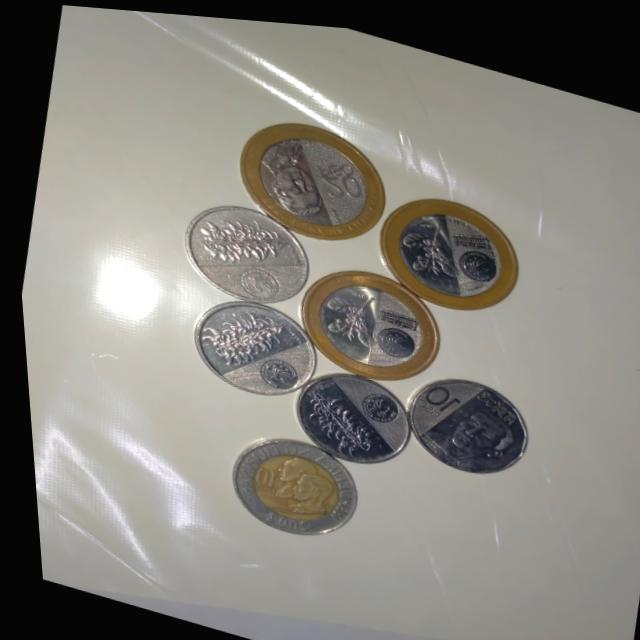10_New_Front: (407, 363, 465, 418)
10_Old_Front: (239, 439, 337, 521)
20_New_Back: (381, 198, 470, 291), (307, 265, 386, 355)
5_New_Back: (286, 378, 375, 457)
